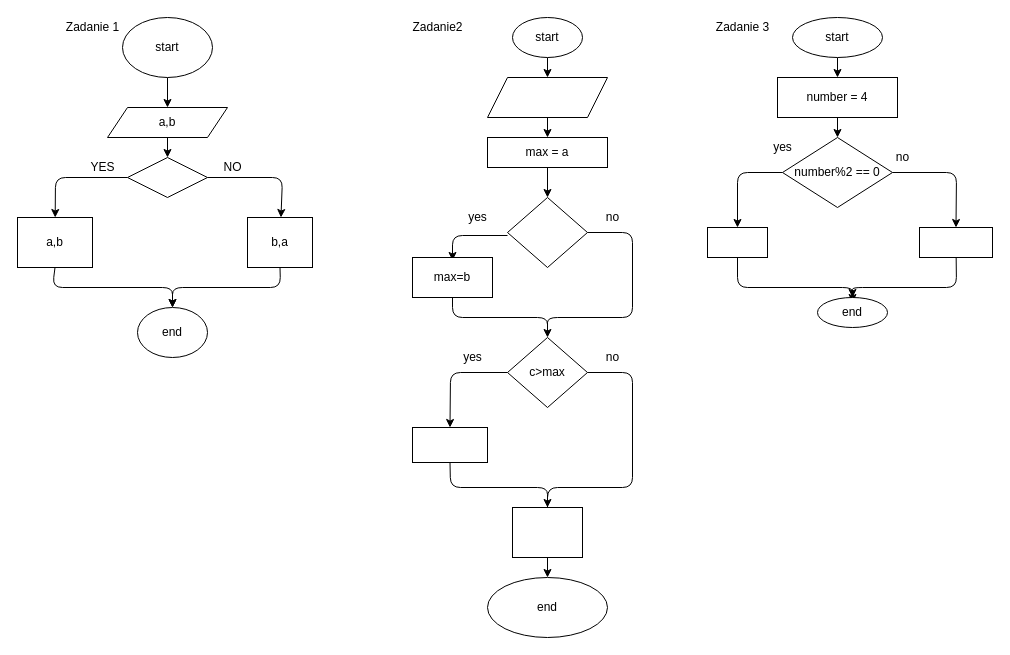
Image size: 1010x655. Some labels were removed from this diagram. Here are the shapes that lost their labels. From the top down, the centre of each, then its label:
At point (547, 97): "a,b,c,max".
At point (167, 177): "a>b".
At point (547, 232): "b>max".
At point (737, 242): "вывод(да)".
At point (955, 242): "вывод(нет)".
At point (450, 444): "max=c".
At point (547, 532): "max".
